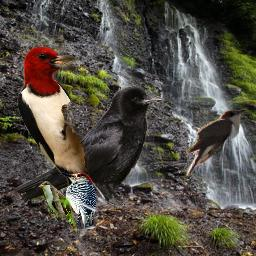Crow: (13, 85, 165, 209)
Cuckoo: (184, 108, 248, 184), (37, 181, 81, 234)
Woodpecker: (17, 46, 89, 203), (58, 169, 98, 229)
